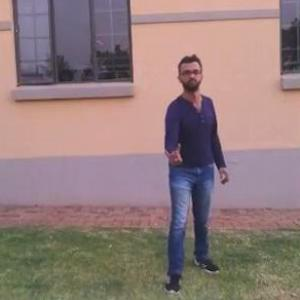takeoff-hand: (159, 139, 188, 166)
